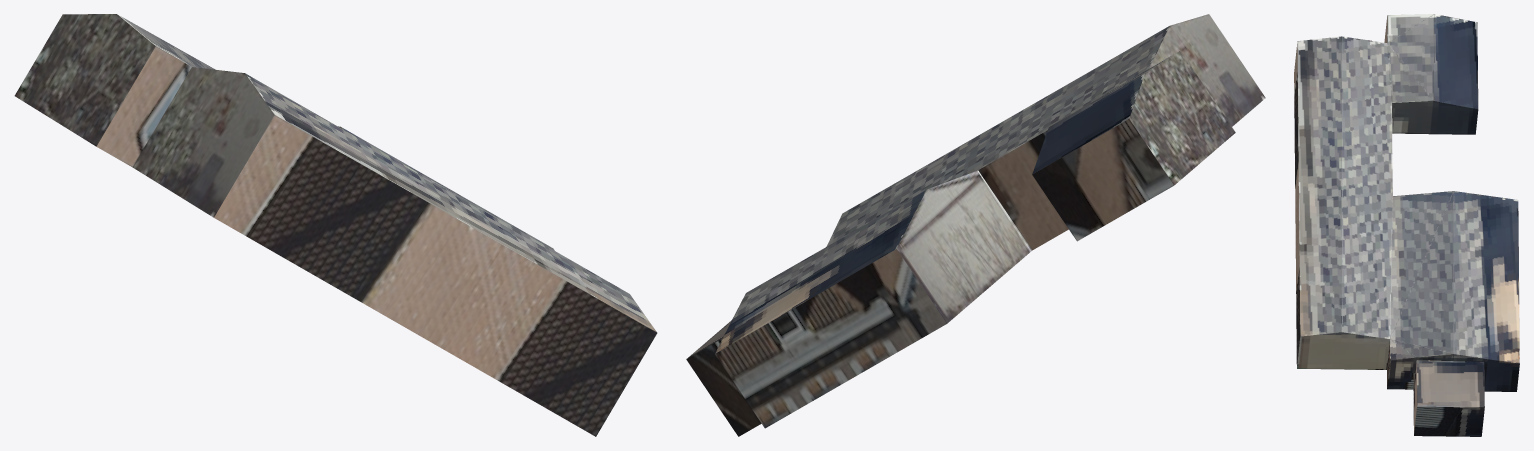
The picture shows the model from 3 angles, left to right: view 1: azimuth 30°, elevation 25°; view 2: azimuth 150°, elevation 25°; view 3: azimuth 270°, elevation 25°; orthographic projection. The views are drawn at different scales.
Visible parts, largest first — view 1: BAG_0599100010058557 (×2); view 2: BAG_0599100010058557 (×3); view 3: BAG_0599100010058557 (×5).
Part boxes in pixels (left/top/right/bottom): BAG_0599100010058557 (×2): left=14, top=14, right=657, bottom=436; BAG_0599100010058557 (×3): left=686, top=14, right=1265, bottom=436; BAG_0599100010058557 (×5): left=1294, top=14, right=1519, bottom=436.
Size of the model in its own units: 14.28 by 12.12 by 8.35.
Materials: 6 (6 with a texture image).
